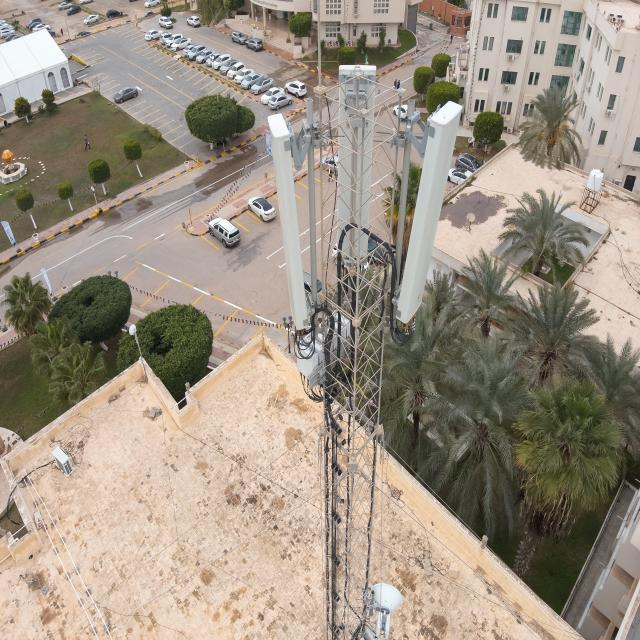antenna: (394, 100, 466, 328), (266, 110, 322, 360), (334, 58, 381, 272), (316, 1, 323, 89)
microware-dish: (368, 578, 405, 640)
radio-unit: (292, 307, 354, 381)
